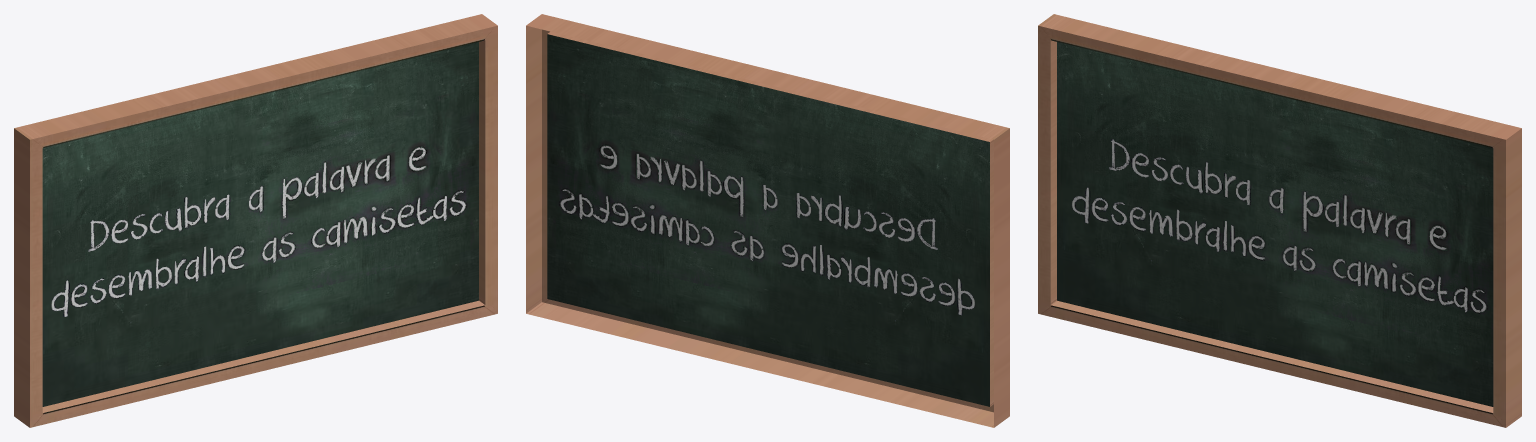
Rendered from QuadroNegro.fbx.
3 views of the same model, side by side, from view 1: azimuth 30°, elevation 25°; view 2: azimuth 150°, elevation 25°; view 3: azimuth 330°, elevation 25° (orthographic).
Visible parts, largest first — view 1: Dica, QuadroNegro; view 2: QuadroNegro; view 3: Dica, QuadroNegro.
Boxes of the visible parts, bbox=[...] form: Dica: bbox=[42, 42, 478, 406]; QuadroNegro: bbox=[14, 14, 497, 427]; QuadroNegro: bbox=[526, 14, 1009, 427]; Dica: bbox=[1057, 42, 1493, 406]; QuadroNegro: bbox=[1038, 14, 1521, 427].
Bounding box in the file's own units: 340 × 200 × 20.
